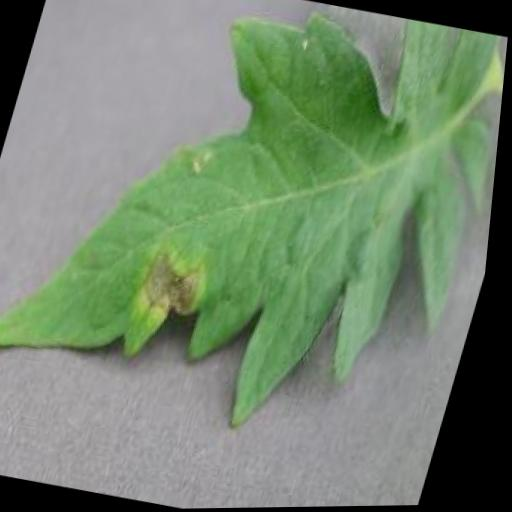Late Blight: (0, 0, 512, 469)
